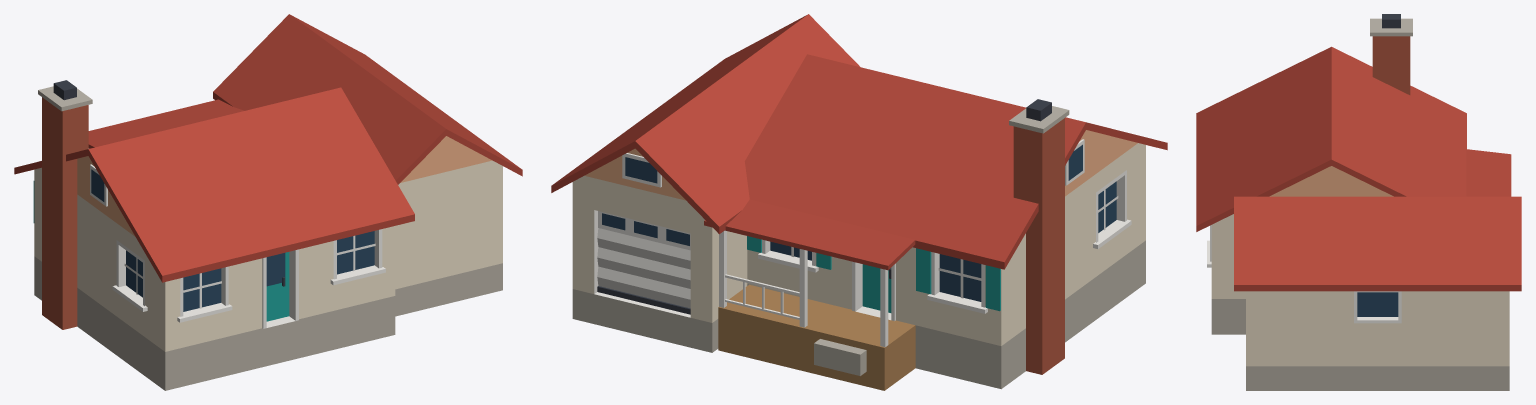
The model's file is house_a.glb.
The picture shows the model from 3 angles, left to right: view 1: azimuth 30°, elevation 25°; view 2: azimuth 150°, elevation 25°; view 3: azimuth 270°, elevation 25°; orthographic projection. The views are drawn at different scales.
Parts seen in each view (by area): view 1: Building, Building_Glass; view 2: Building, Building_Glass; view 3: Building, Building_Glass.
Boxes of the visible parts, bbox=[...] form: Building: bbox=[14, 14, 522, 390]; Building_Glass: bbox=[91, 169, 374, 311]; Building: bbox=[551, 14, 1167, 390]; Building_Glass: bbox=[602, 144, 1116, 301]; Building: bbox=[1196, 14, 1521, 390]; Building_Glass: bbox=[1357, 292, 1398, 316].
Bounding box in the file's own units: 11.93 × 6.9 × 9.5.
